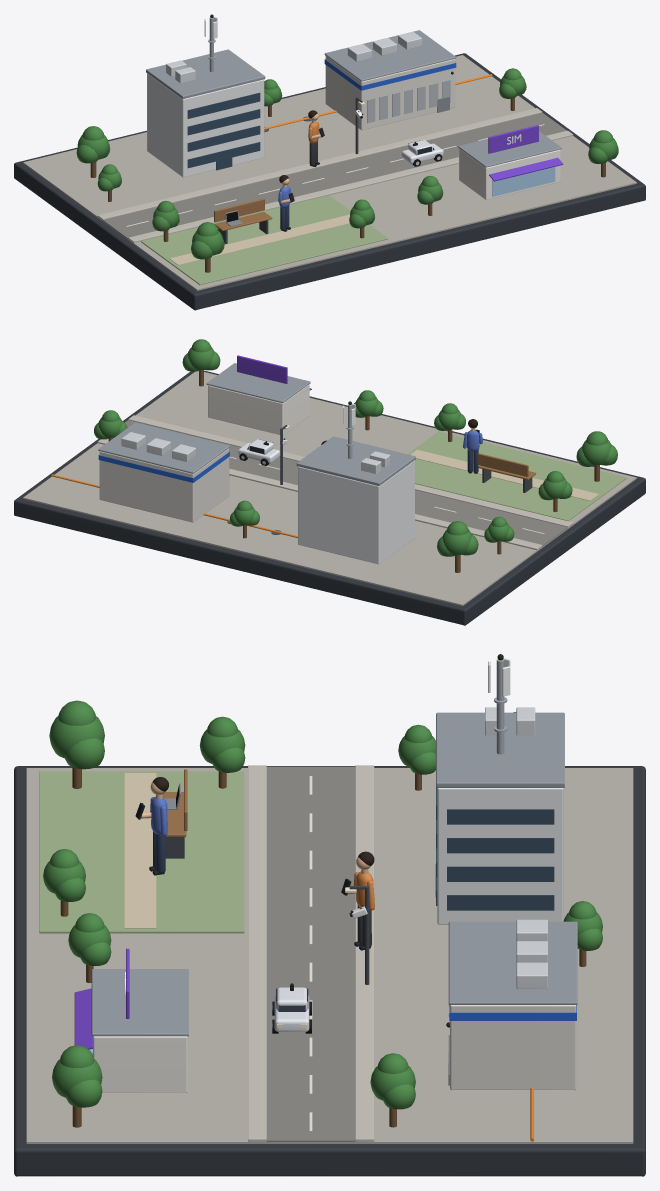
Rendered from mobile-street.glb.
3 renders of one model, top to bottom at view 1: azimuth 30°, elevation 25°; view 2: azimuth 150°, elevation 25°; view 3: azimuth 270°, elevation 25°, orthographic. The views are drawn at different scales.
Parts seen in each view (by area): view 1: Static, Part_Exchange, Part_Shop; view 2: Static, Part_Exchange, Part_Shop; view 3: Static, Part_Exchange, Part_Shop.
Part boxes in pixels (x1=…): Static: x1=14, y1=17, x2=645, y2=310; Part_Exchange: x1=324, y1=30, x2=456, y2=130; Part_Shop: x1=458, y1=125, x2=563, y2=199; Static: x1=14, y1=339, x2=645, y2=625; Part_Exchange: x1=98, y1=422, x2=230, y2=522; Part_Shop: x1=206, y1=355, x2=311, y2=435; Static: x1=14, y1=659, x2=645, y2=1176; Part_Exchange: x1=448, y1=919, x2=577, y2=1090; Part_Shop: x1=74, y1=948, x2=188, y2=1092.
Bounding box in the file's own units: 1.44 × 0.4752 × 1.
